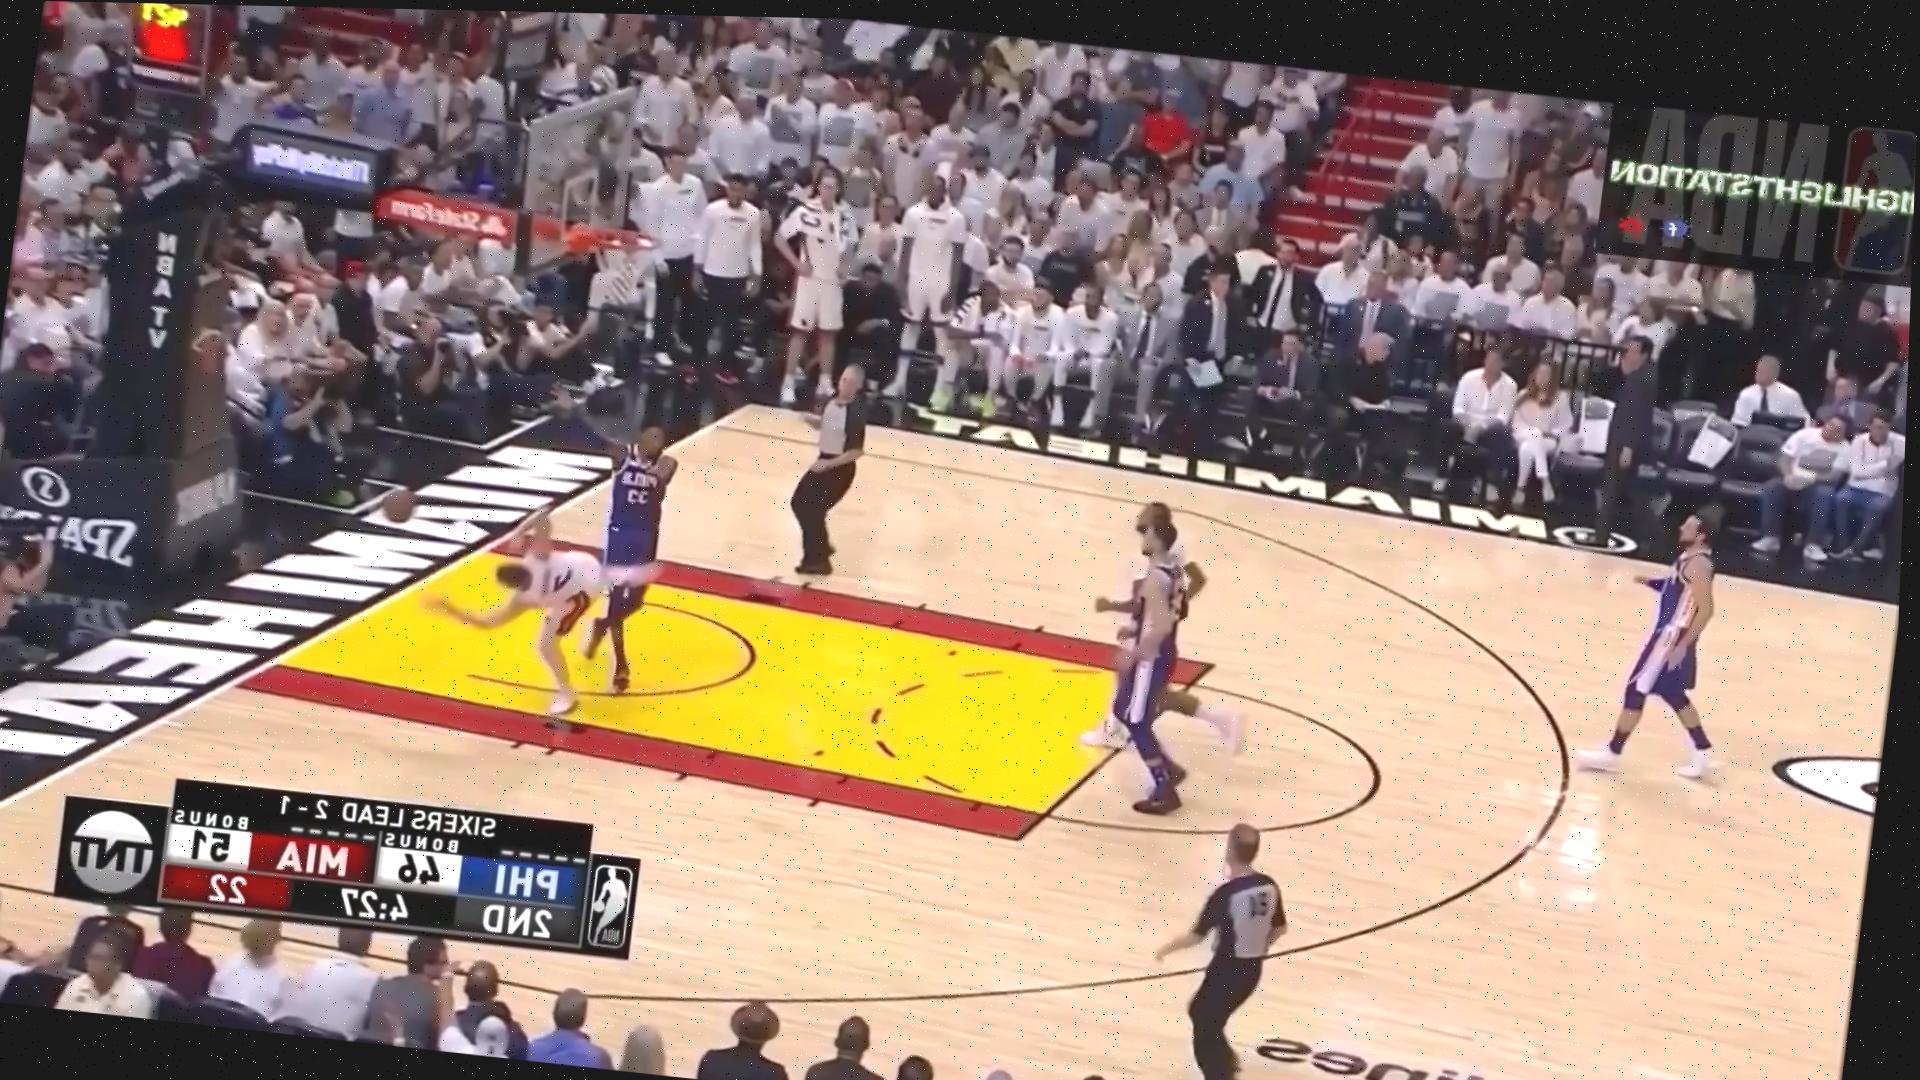foul: (420, 398, 709, 718)
